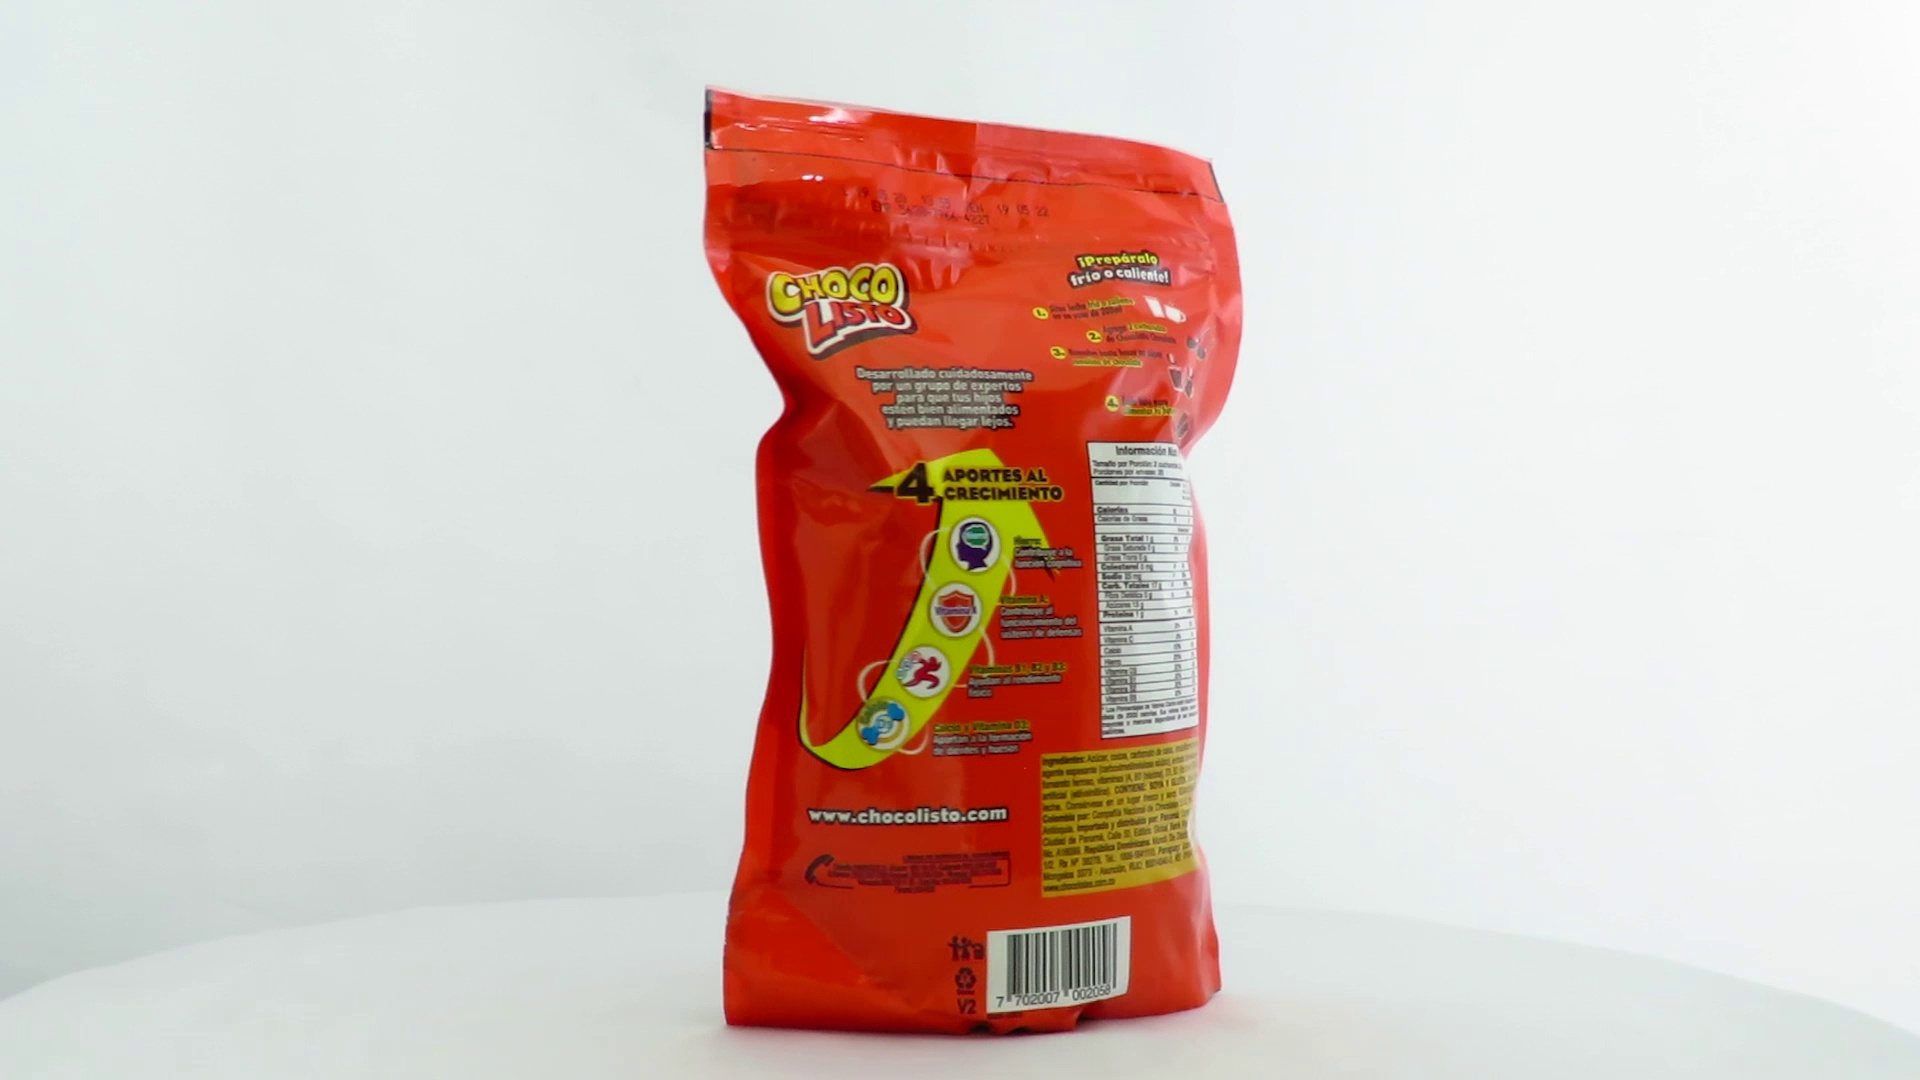COL0170103DYP40000: (698, 84, 1249, 1047)
